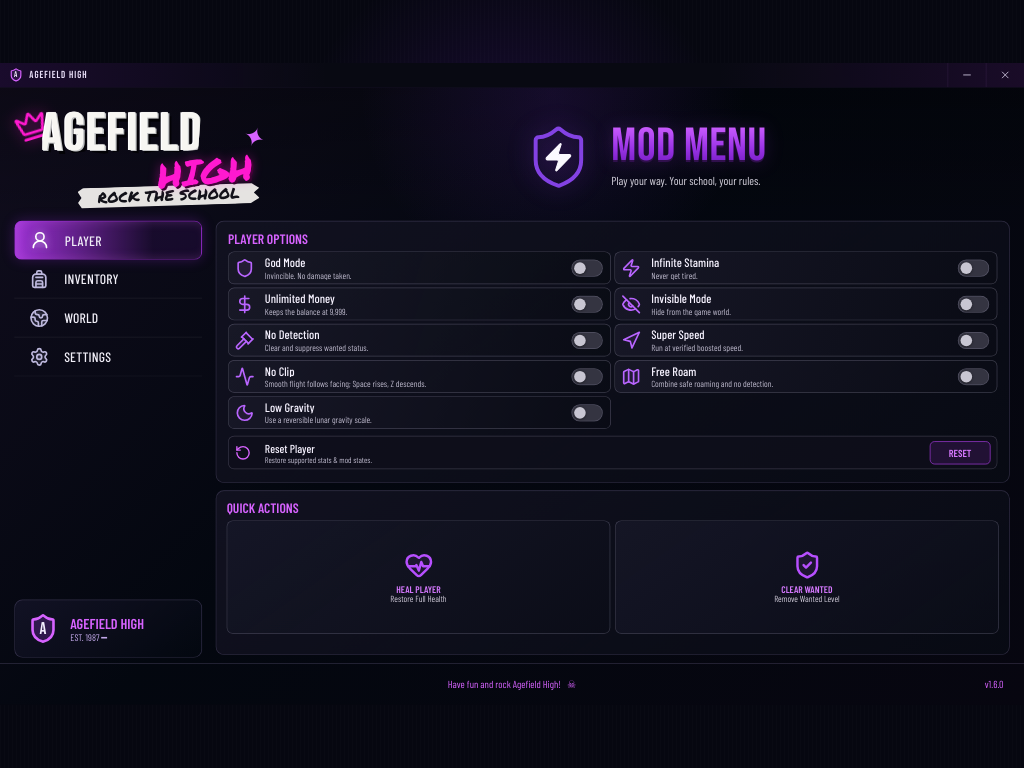
Test: Agefield High offline menu › shows the global window hotkey and creative credits in Settings
Click the button "Settings". click: (108, 357)
box: left=14, top=338, right=202, bottom=376
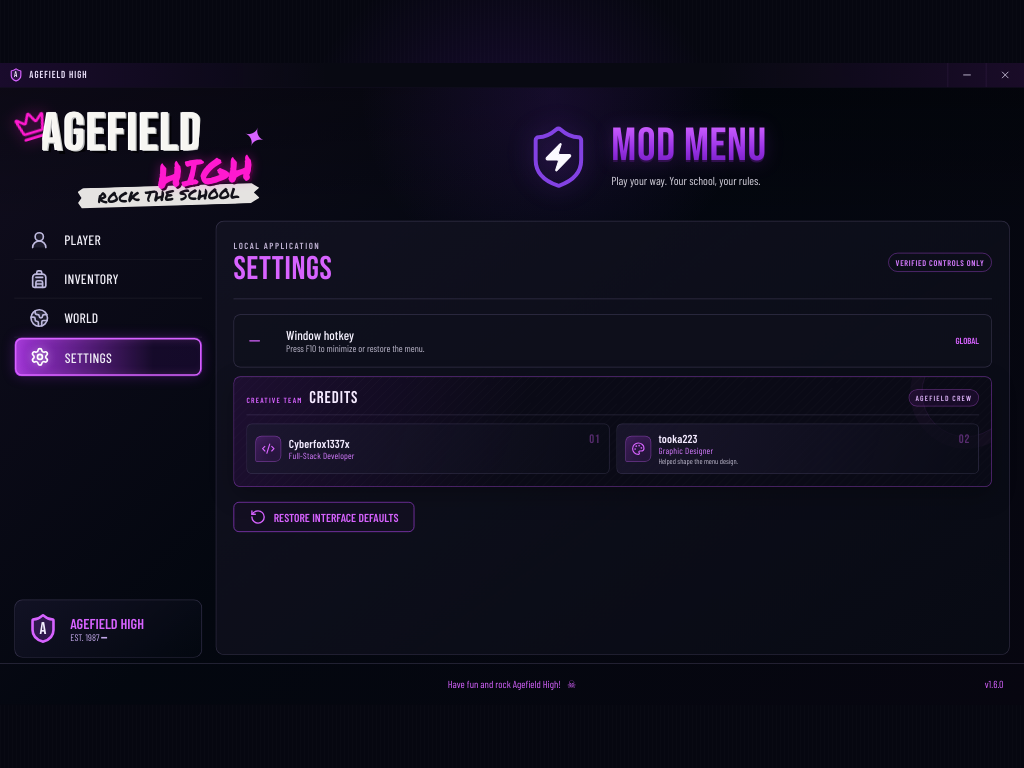
expect the text "Window hotkey" is shown: met, box left=286, top=327, right=354, bottom=343
expect the text "Press F10 to minimize or restore the menu." is shown: met, box left=286, top=343, right=425, bottom=355
expect the heading "Credits" is shown: met, box left=309, top=390, right=358, bottom=407
